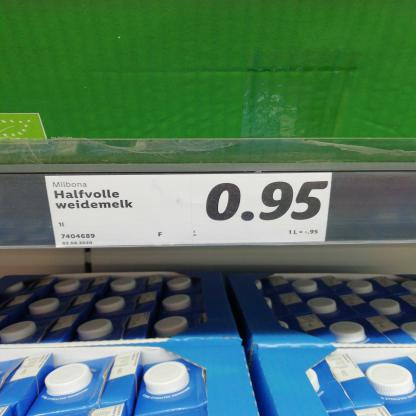prtg: (45, 174, 334, 248)
